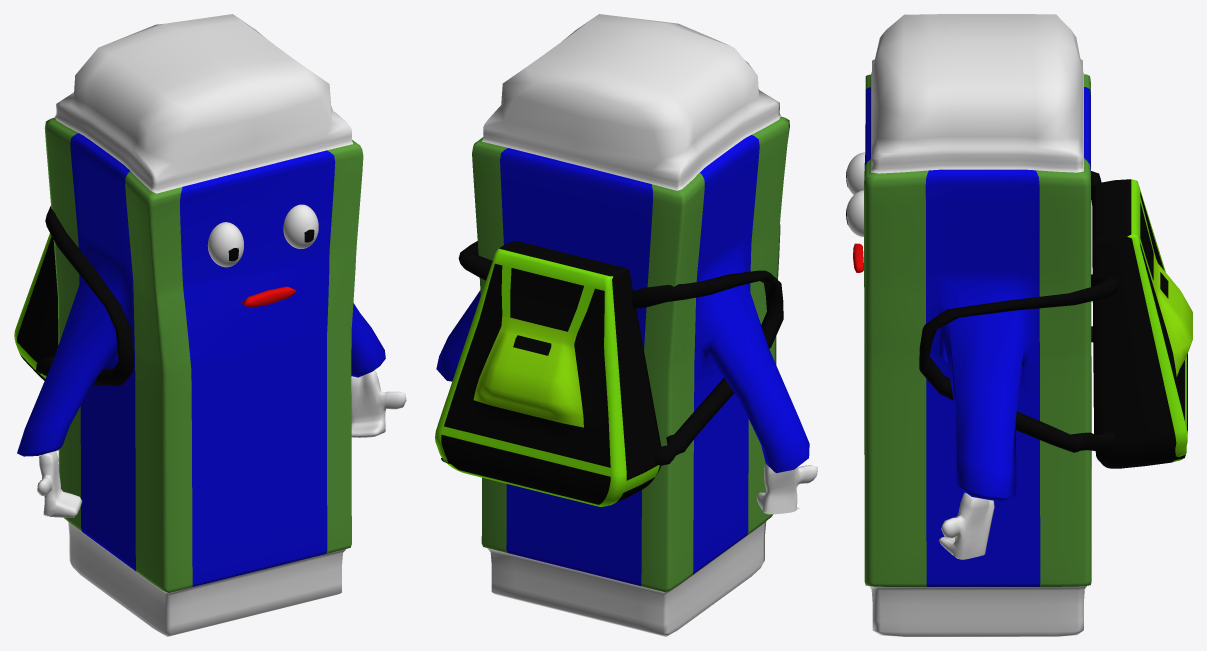
The model's file is eraser11.fbx.
3 views of the same model, side by side, from view 1: azimuth 30°, elevation 25°; view 2: azimuth 150°, elevation 25°; view 3: azimuth 270°, elevation 25° (orthographic). The views are drawn at different scales.
Parts seen in each view (by area): view 1: pasted__pasted__pSphere3; view 2: pasted__pasted__pSphere3; view 3: pasted__pasted__pSphere3.
Part boxes in pixels (bbox=[...]): pasted__pasted__pSphere3: bbox=[14, 14, 406, 636]; pasted__pasted__pSphere3: bbox=[435, 14, 817, 636]; pasted__pasted__pSphere3: bbox=[846, 14, 1192, 636].
Bounding box in the file's own units: 2.09 × 2.9 × 1.64.
